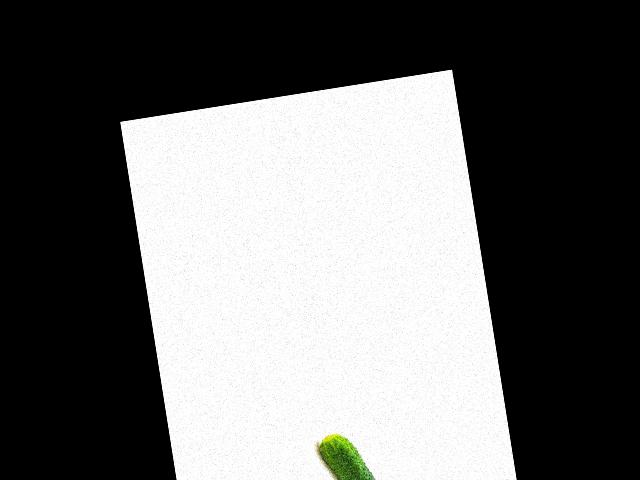cucumber: (317, 428, 381, 480)
